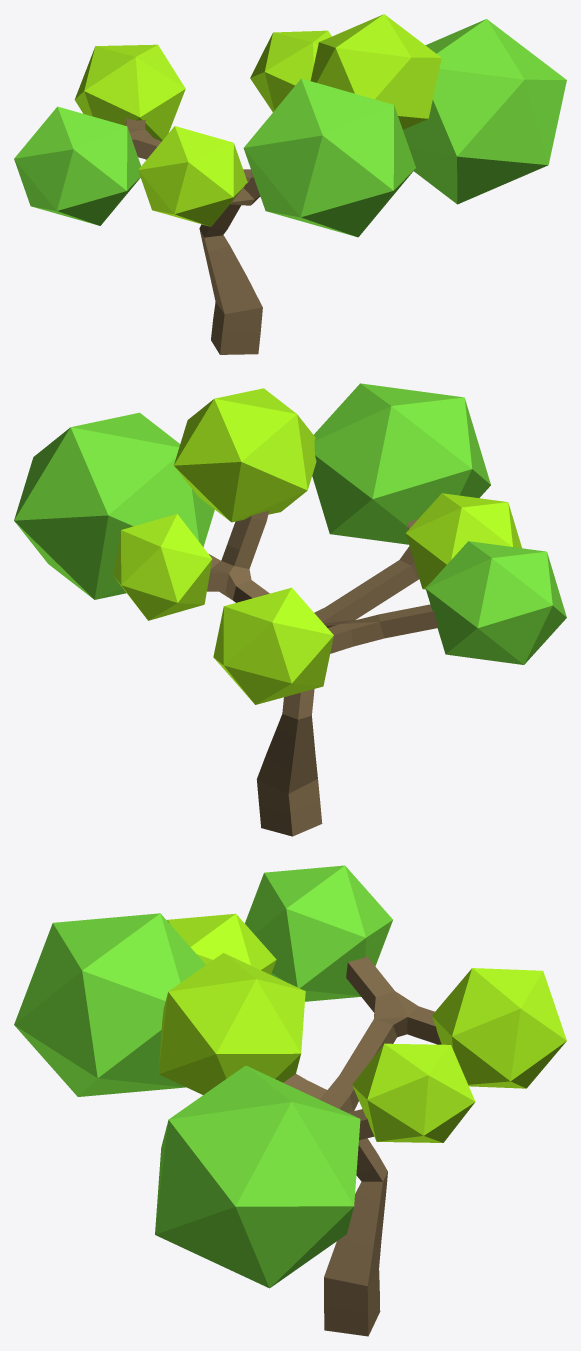
File: Tree.fbx
The picture shows the model from 3 angles, top to bottom: view 1: azimuth 30°, elevation 25°; view 2: azimuth 150°, elevation 25°; view 3: azimuth 270°, elevation 25°; orthographic projection. The views are drawn at different scales.
Visible parts, largest first — view 1: Icosphere.005, Icosphere.003, Icosphere.001, Icosphere.004, Icosphere.002, Icosphere, Tree, Icosphere.006; view 2: Icosphere.005, Icosphere.003, Tree, Icosphere.004, Icosphere.001, Icosphere, Icosphere.006, Icosphere.002; view 3: Icosphere.005, Icosphere.003, Icosphere.004, Tree, Icosphere.001, Icosphere, Icosphere.006, Icosphere.002.
Part boxes in pixels (<box>): Icosphere.005: <box>403,19,566,204</box>; Icosphere.003: <box>243,78,415,237</box>; Icosphere.001: <box>14,106,140,225</box>; Icosphere.004: <box>310,14,441,129</box>; Icosphere.002: <box>138,126,247,226</box>; Icosphere: <box>74,44,185,141</box>; Tree: <box>125,118,262,354</box>; Icosphere.006: <box>250,30,331,111</box>; Icosphere.005: <box>14,412,214,599</box>; Icosphere.003: <box>312,383,490,544</box>; Tree: <box>207,510,438,836</box>; Icosphere.004: <box>174,388,316,522</box>; Icosphere.001: <box>425,541,566,664</box>; Icosphere: <box>213,587,333,704</box>; Icosphere.006: <box>113,514,212,620</box>; Icosphere.002: <box>405,493,521,589</box>; Icosphere.005: <box>155,1065,360,1288</box>; Icosphere.003: <box>14,913,205,1096</box>; Icosphere.004: <box>158,953,305,1094</box>; Tree: <box>283,956,441,1336</box>; Icosphere.001: <box>245,865,392,1001</box>; Icosphere: <box>432,968,566,1088</box>; Icosphere.006: <box>352,1043,475,1142</box>; Icosphere.002: <box>167,913,276,974</box>.
Size of the model in its own units: 490 by 307 by 376.
